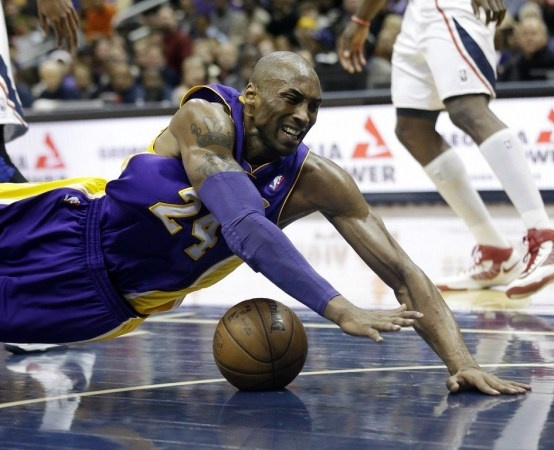falling: (3, 49, 541, 400)
